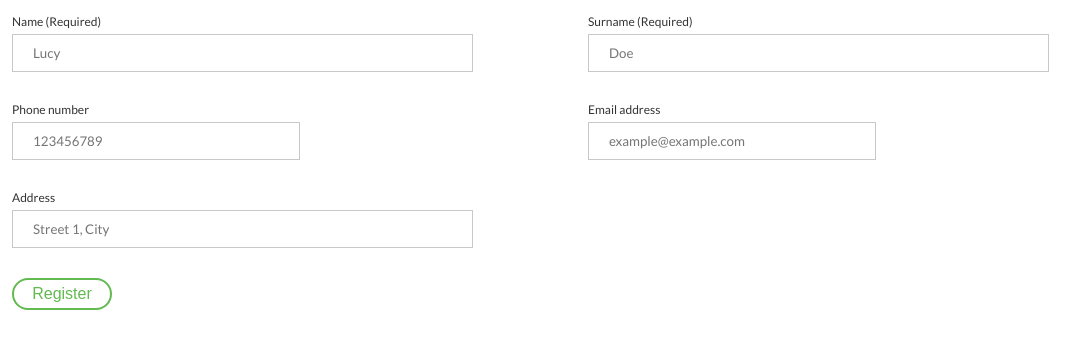
<NewOwnerForm /> › Show error when email is not an email
Type "test owner" into the field with placeholder "Lucy" at (242, 53), box [12,34,473,72]
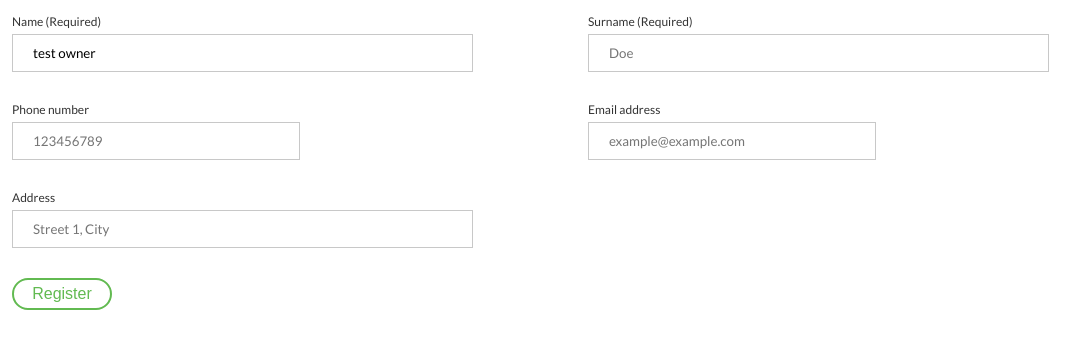
Type "test surname" into the field with placeholder "Doe" at (818, 53), box [588,34,1049,72]
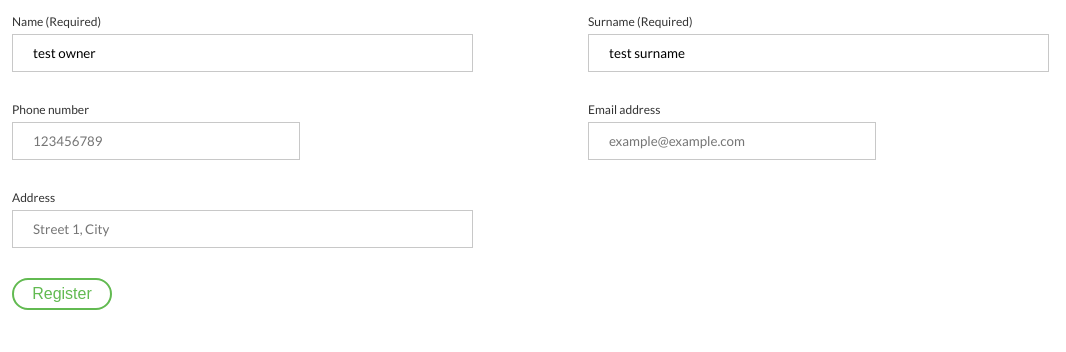
Type "111222333" into the number field with placeholder "123456789" at (156, 141), box [12,122,300,160]
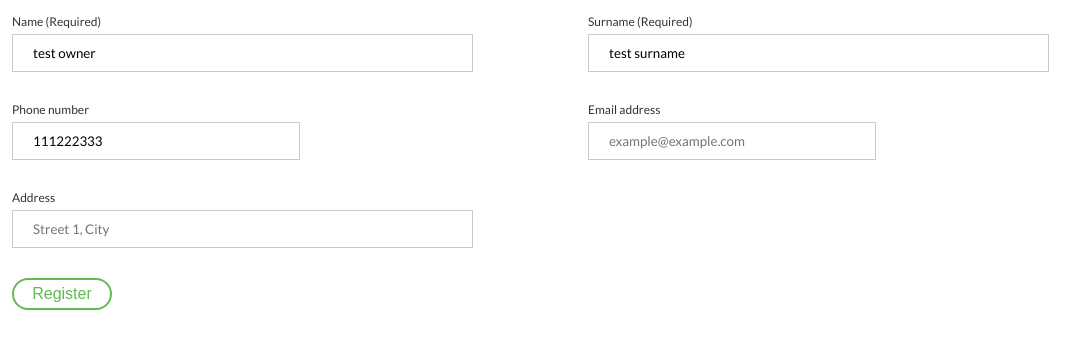
Type "test email" into the field with placeholder "example@example.com" at (732, 141), box [588,122,876,160]
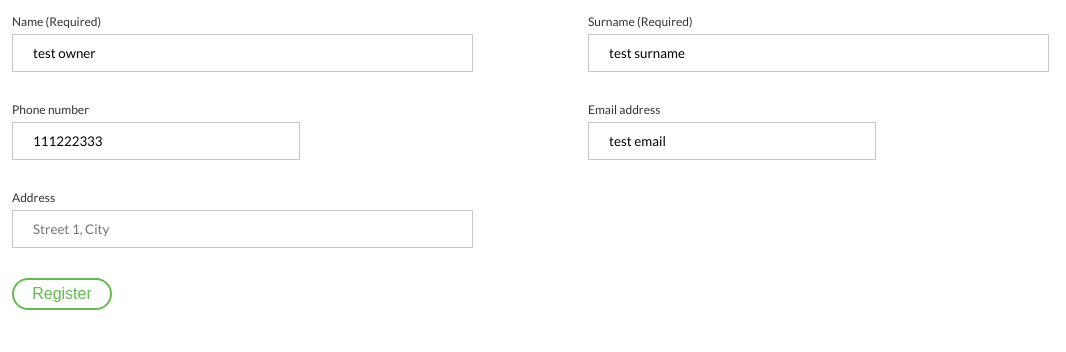
Type "Street 1, Moscow" into the field with placeholder "Street 1, City" at (242, 229), box [12,210,473,248]
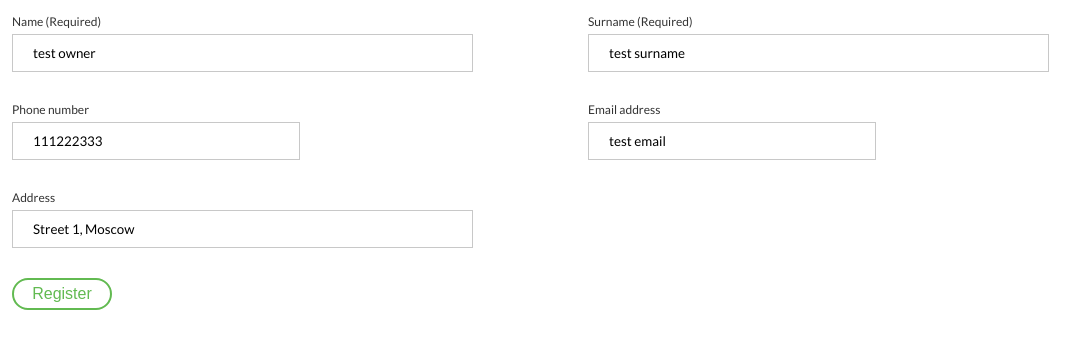
Click the button "Register" at (62, 294), box [12,278,112,310]
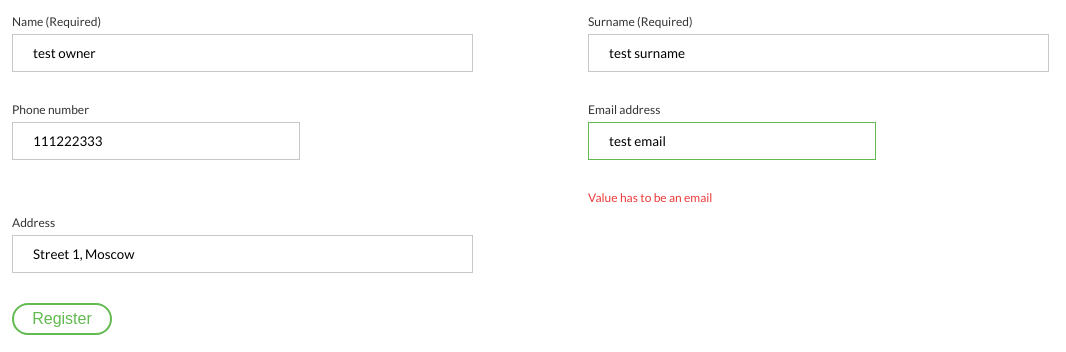
Result: the text "Value has to be an email" is shown at [588,190,712,205]
